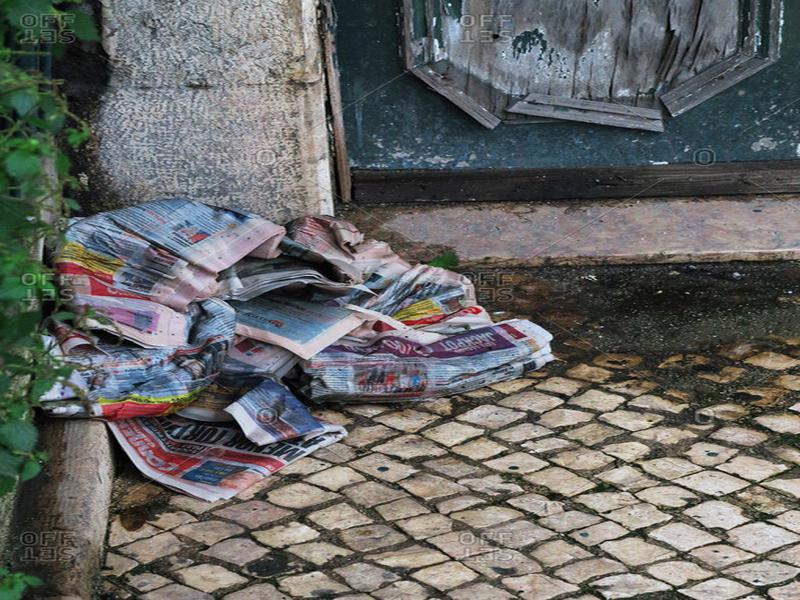paper: (287, 213, 565, 396), (105, 384, 358, 513), (48, 267, 241, 418), (69, 190, 286, 274)
